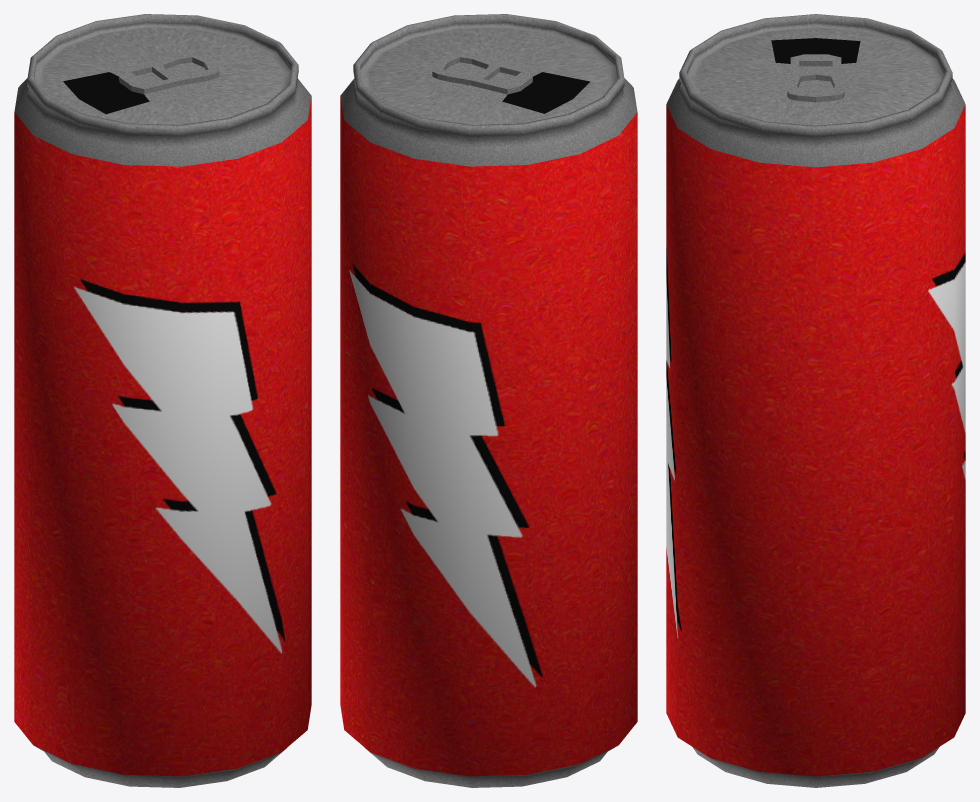
The model's file is Can.fbx.
The picture shows the model from 3 angles, left to right: view 1: azimuth 30°, elevation 25°; view 2: azimuth 150°, elevation 25°; view 3: azimuth 270°, elevation 25°; orthographic projection.
Visible parts, largest first — view 1: Cylinder, Latch, Cylinder.001; view 2: Cylinder, Latch, Cylinder.001; view 3: Cylinder, Latch, Cylinder.001.
Part boxes in pixels (x1,y1,x2,y2): Cylinder: (14, 14, 311, 787); Latch: (119, 52, 219, 94); Cylinder.001: (63, 72, 149, 114); Cylinder: (340, 14, 637, 787); Latch: (432, 52, 532, 94); Cylinder.001: (502, 72, 589, 113); Cylinder: (666, 14, 965, 787); Latch: (787, 54, 844, 102); Cylinder.001: (771, 38, 860, 63).
Size of the model in its own units: 234 by 571 by 234.
2 materials, 1 textured.
